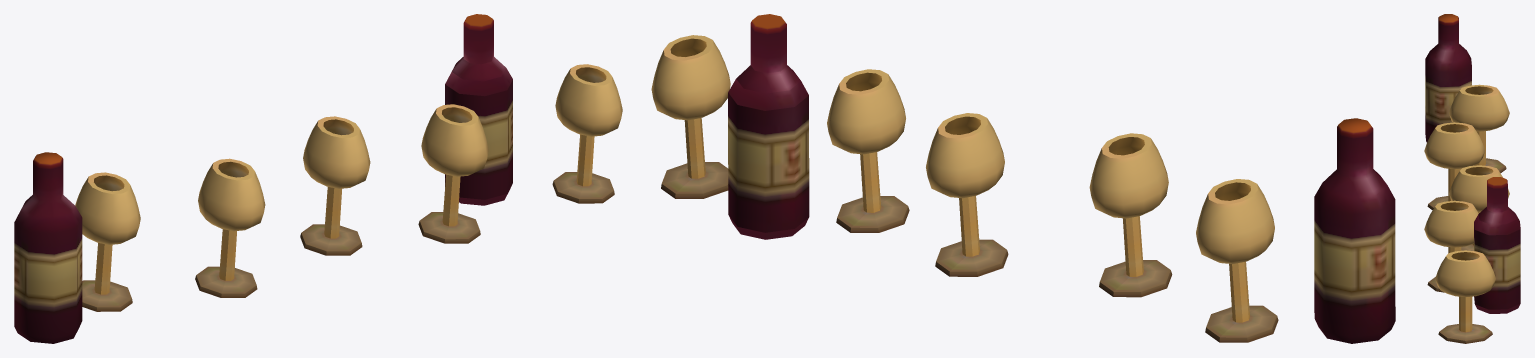
File: obj_wine (merge).fbx
3 views of the same model, side by side, from view 1: azimuth 30°, elevation 25°; view 2: azimuth 150°, elevation 25°; view 3: azimuth 270°, elevation 25° (orthographic). The views are drawn at different scales.
Visible parts, largest first — view 1: obj_wine; view 2: obj_wine; view 3: obj_wine.
Boxes of the visible parts, <box> form: obj_wine: <box>14,14,622,343</box>; obj_wine: <box>651,14,1395,343</box>; obj_wine: <box>1424,14,1520,343</box>.
Bounding box in the file's own units: 3.45 × 0.9424 × 0.66.
Materials: 1 (1 with a texture image).
